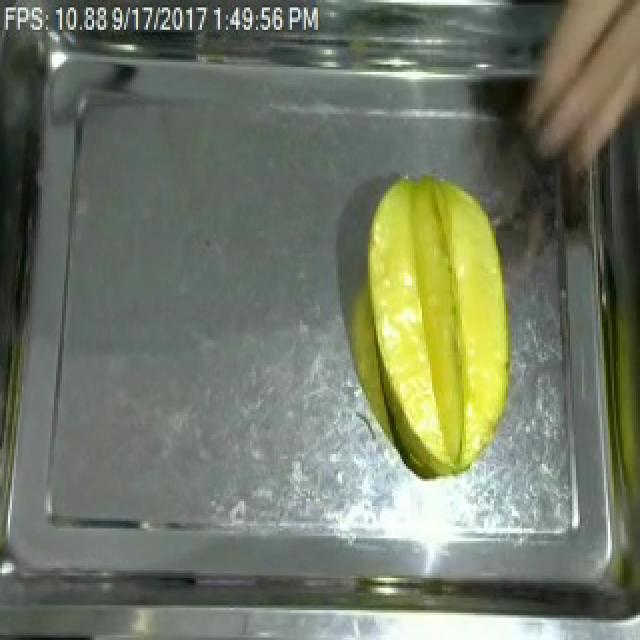fruit: (356, 164, 524, 486), (520, 0, 640, 181)
